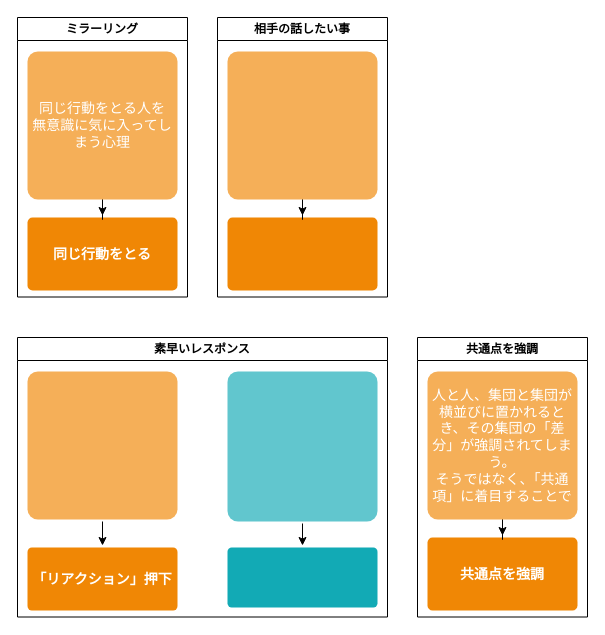
Image size: 605x635. Some labels were removed from this diagram. The shapes that lost their labels are listed below. From the top down, each one's centre as x and y in pixels, then its label:
At point (302, 125): "相手が食いつきそうな話題を振る".
At point (302, 253): "相手が食いつきそうな 話題を振る".
At point (102, 445): "素早いレスポンスは安心感を生む。 ネガティブであれ、ポジティブであれ、フィードバックがないよりは遥かにマシ".
At point (302, 446): "「無言」を選択することで 相手は勝手に不安要素を洗い出し、いろいろ想像してしまう 不安感をあおることが出来る".
At point (302, 577): "無言戦略".
